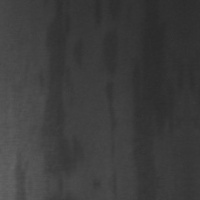inclusion: (128, 0, 179, 180), (37, 0, 84, 179), (90, 0, 122, 183), (9, 150, 28, 186)
